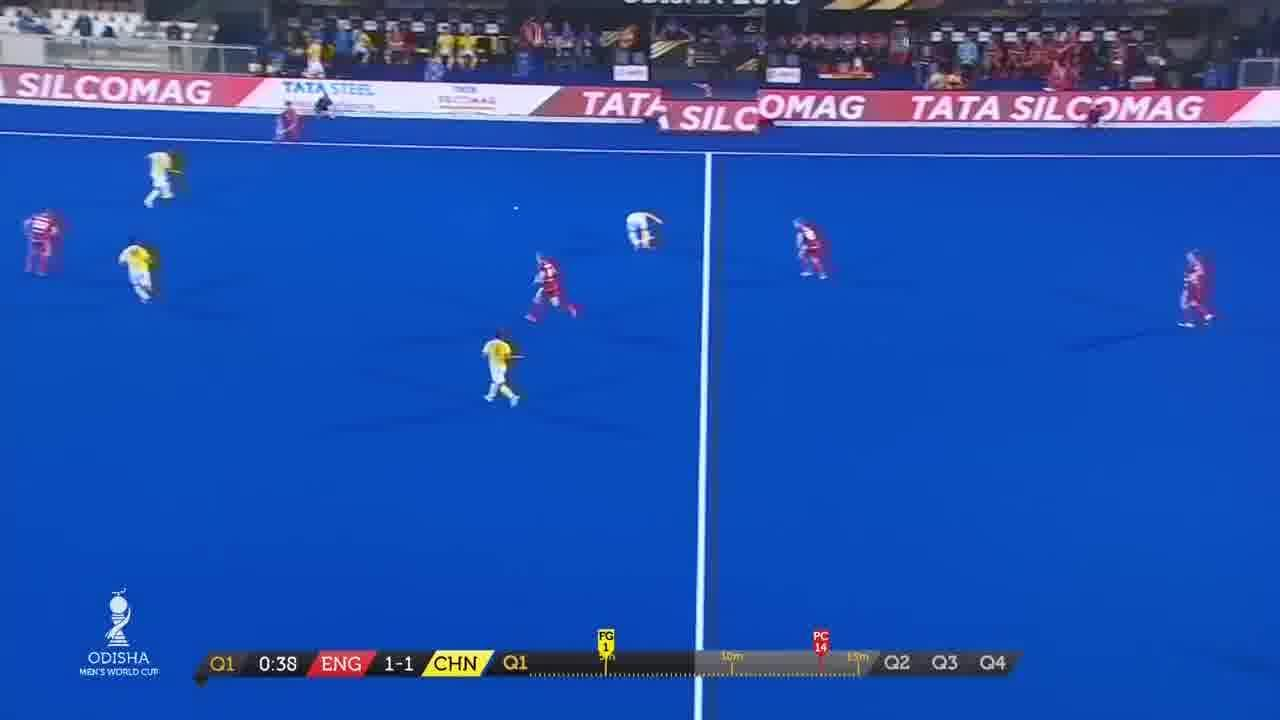ball: (506, 198, 530, 222)
